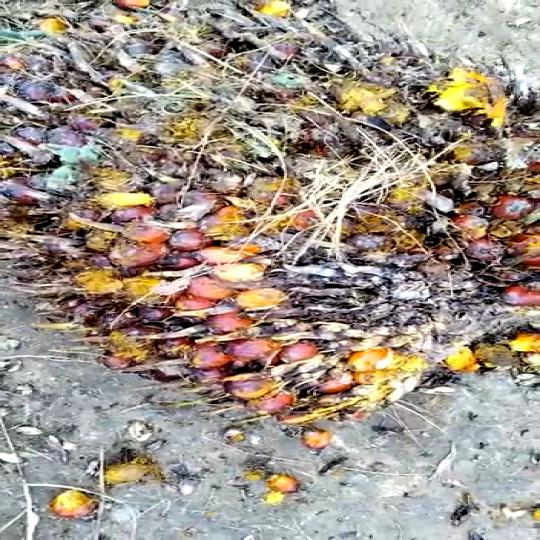masak: (0, 0, 540, 415)
